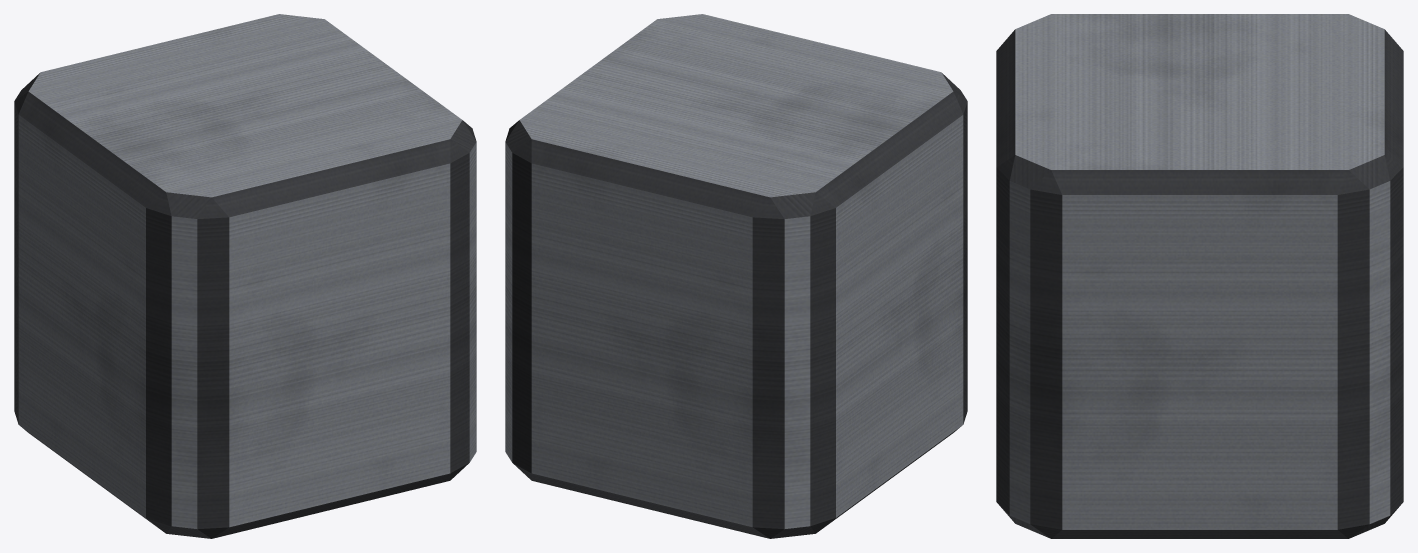
The model's file is R4B_OctColumn_LOD1.glb.
3 renders of one model, left to right at view 1: azimuth 30°, elevation 25°; view 2: azimuth 150°, elevation 25°; view 3: azimuth 270°, elevation 25°, orthographic. The views are drawn at different scales.
Visible parts, largest first — view 1: R4B_OctColumn_LOD1; view 2: R4B_OctColumn_LOD1; view 3: R4B_OctColumn_LOD1.
Part boxes in pixels (left/top/right/bottom): R4B_OctColumn_LOD1: left=14, top=14, right=476, bottom=538; R4B_OctColumn_LOD1: left=505, top=14, right=967, bottom=538; R4B_OctColumn_LOD1: left=996, top=14, right=1403, bottom=538.
Bounding box in the file's own units: 0.52 × 0.52 × 0.52.
Materials: 2 (2 with a texture image).
